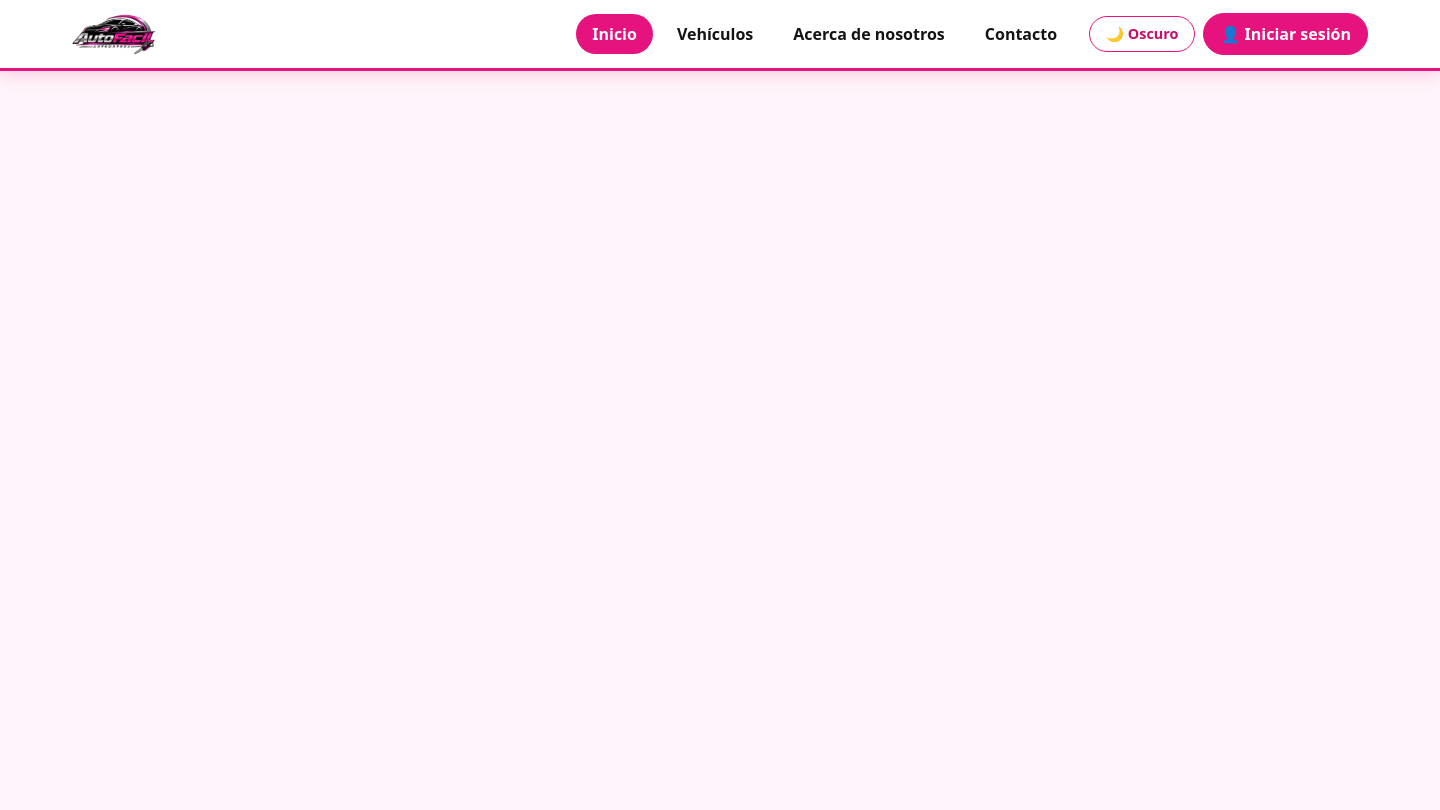
Test: ModalSesion - pestañas › permite ir a Registrarse y volver a Ingresar
Step 1. Click the button "👤 Iniciar sesión" → x=1286, y=34, box [1203, 13, 1368, 55]
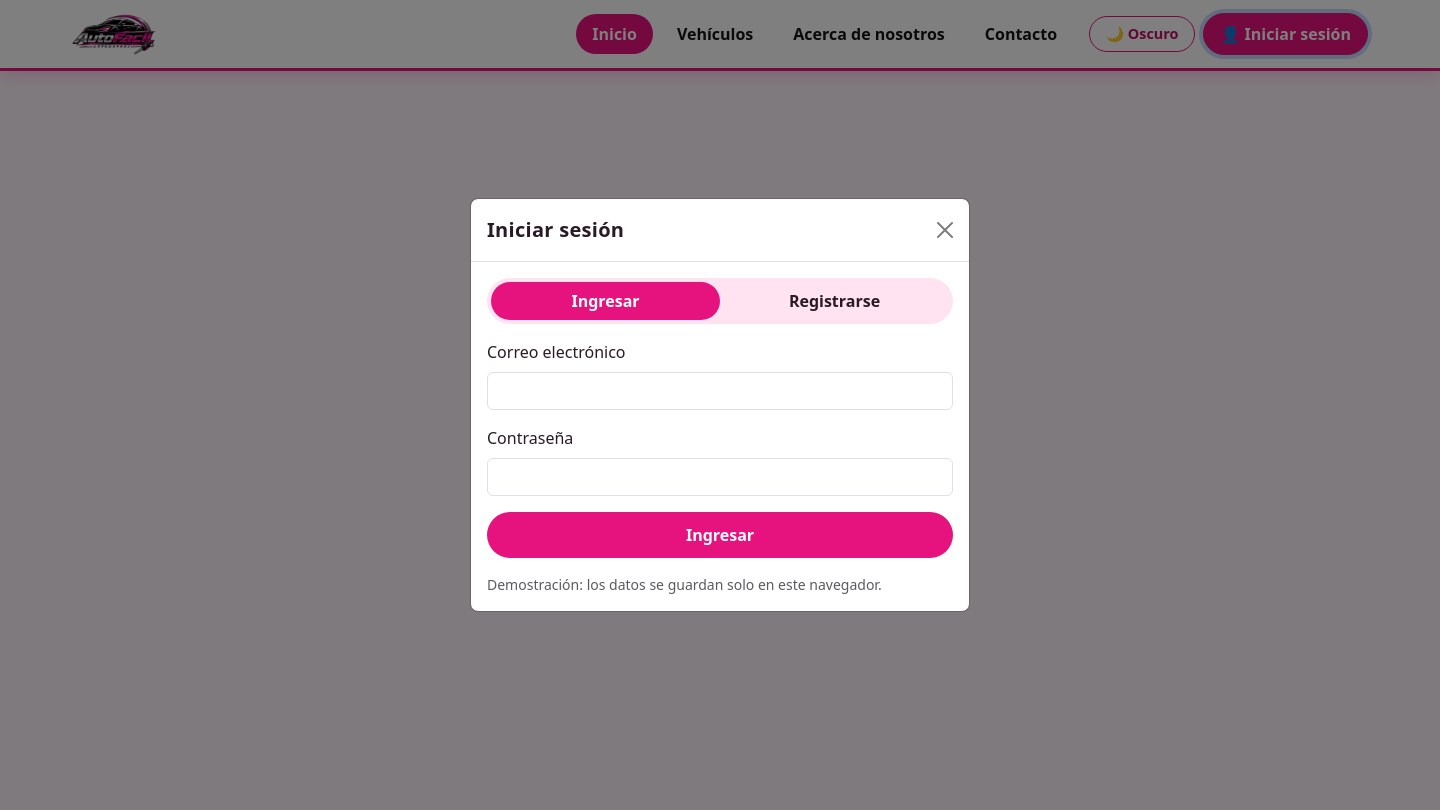
Expected: the field labelled "Repetir contraseña" is not shown
Expected: the heading "Iniciar sesión" is shown, [487, 215, 624, 245]
Step 2. Click the button "Registrarse" → x=834, y=301, box [720, 282, 949, 320]
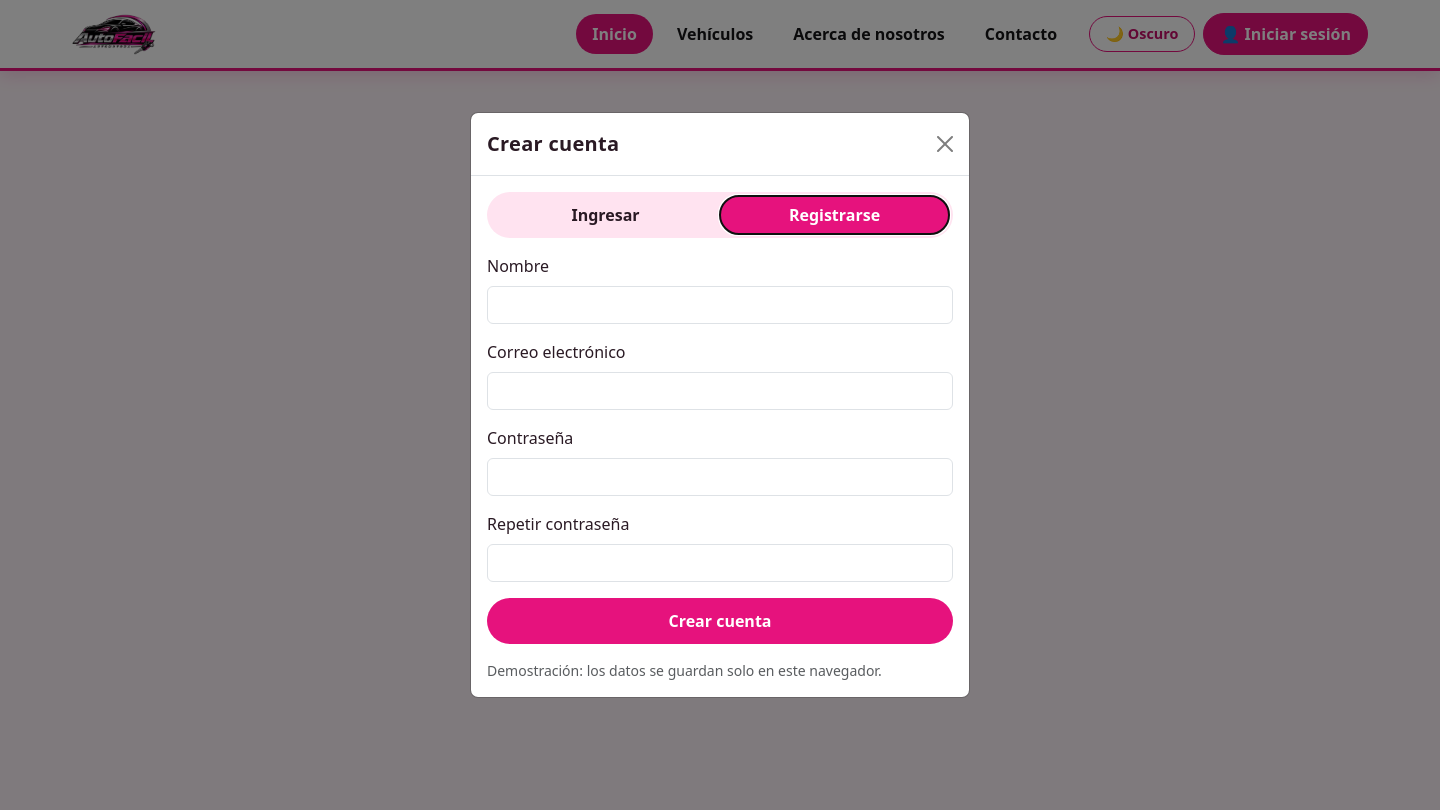
Expected: the heading "Crear cuenta" is shown, [487, 129, 619, 159]
Expected: the password field labelled "Repetir contraseña" is shown, [487, 544, 953, 582]
Step 3. Click the button "Ingresar" → x=606, y=215, box [491, 196, 720, 234]
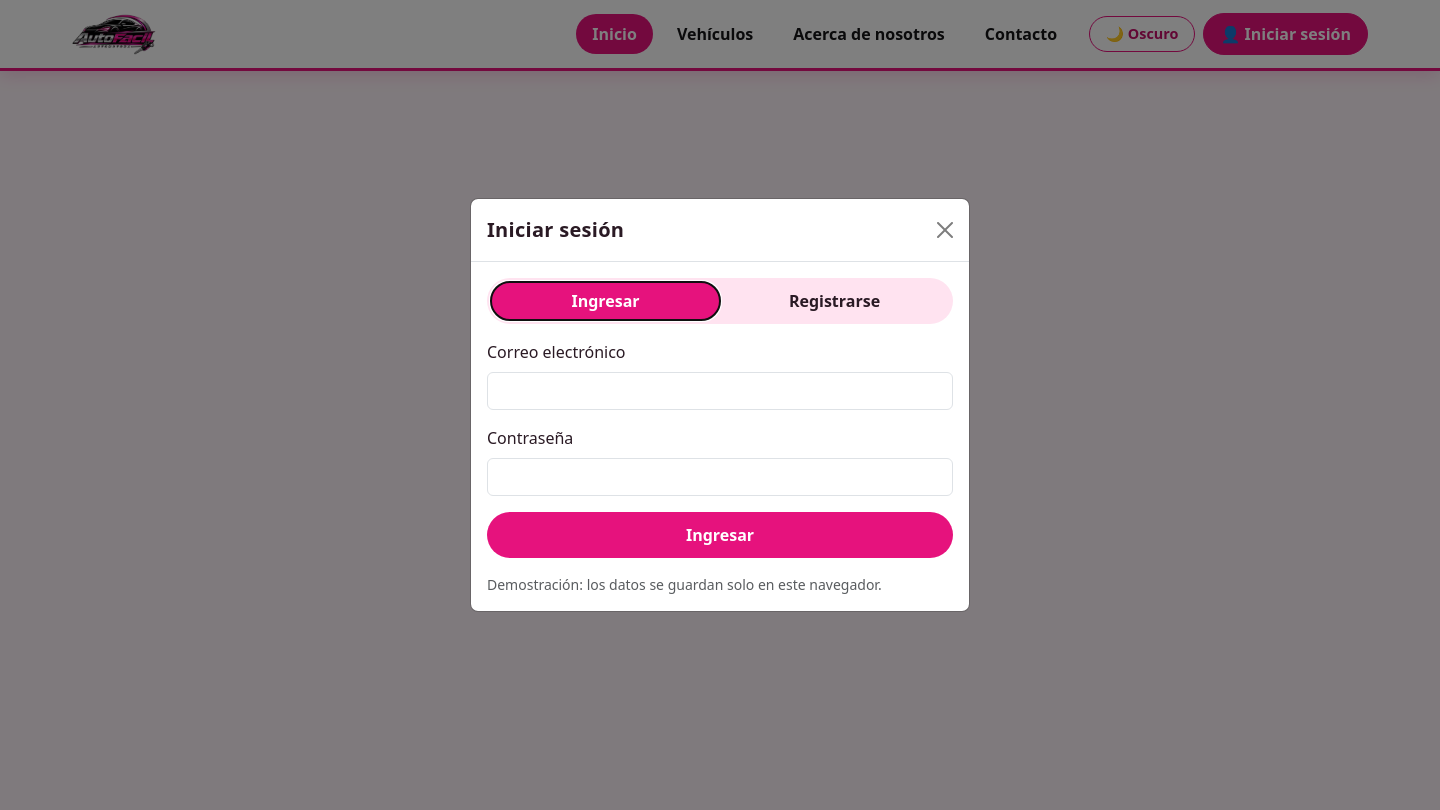
Expected: the heading "Iniciar sesión" is shown, [487, 215, 624, 245]
Expected: the label labelled "Repetir contraseña" is gone
